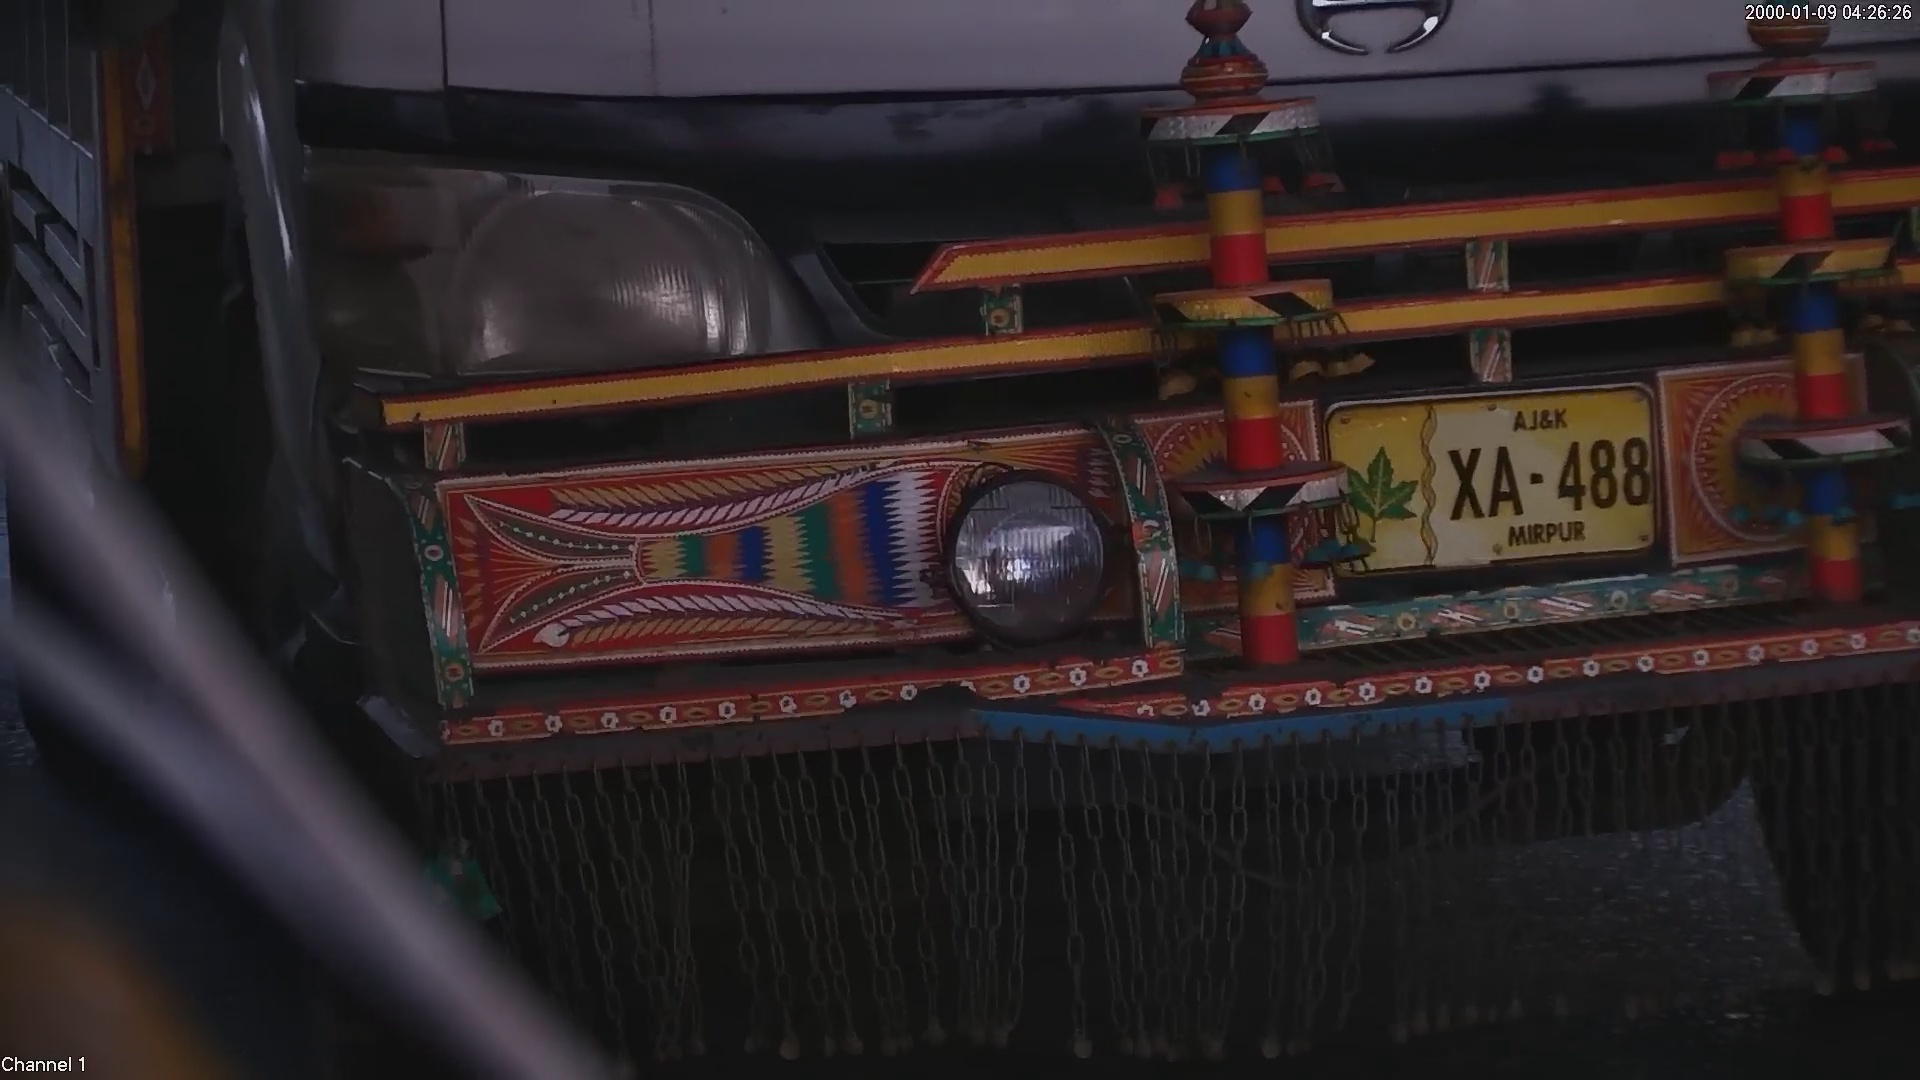Number_Plate: (1289, 359, 1684, 577)
